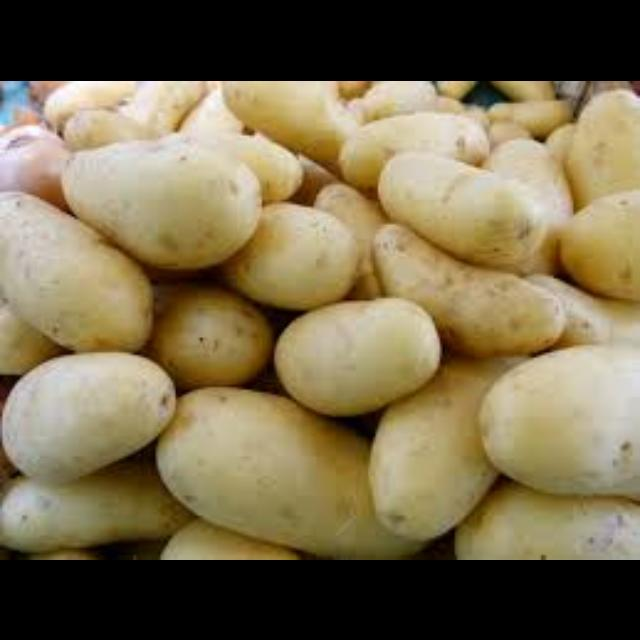Potato: (152, 390, 480, 560), (361, 353, 517, 543), (475, 343, 639, 514), (370, 142, 572, 280), (364, 226, 568, 362), (4, 191, 158, 369), (55, 136, 256, 270), (3, 355, 179, 481), (270, 298, 442, 416), (0, 473, 210, 559), (220, 199, 358, 309), (337, 108, 495, 204), (149, 278, 275, 394), (28, 80, 220, 156), (452, 481, 640, 557), (218, 80, 372, 166), (546, 80, 638, 210), (550, 189, 638, 313), (157, 522, 317, 560)
